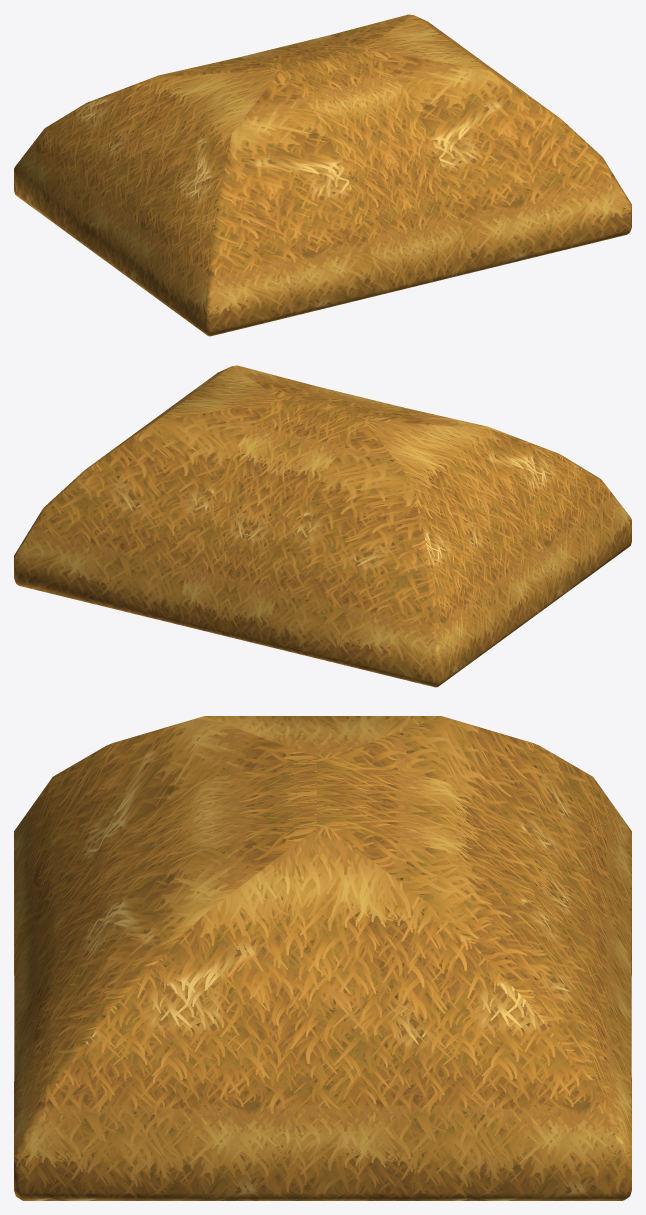
The model's file is SquareBaseHouserRoofSmall02.fbx.
3 renders of one model, top to bottom at view 1: azimuth 30°, elevation 25°; view 2: azimuth 150°, elevation 25°; view 3: azimuth 270°, elevation 25°, orthographic. The views are drawn at different scales.
Parts seen in each view (by area): view 1: Cube.054; view 2: Cube.054; view 3: Cube.054.
Part boxes in pixels (box(x1,y1,x2,y2)): Cube.054: box(14, 14, 631, 336); Cube.054: box(14, 365, 631, 687); Cube.054: box(14, 716, 631, 1200).
Size of the model in its own units: 33.01 by 11.61 by 26.2.
